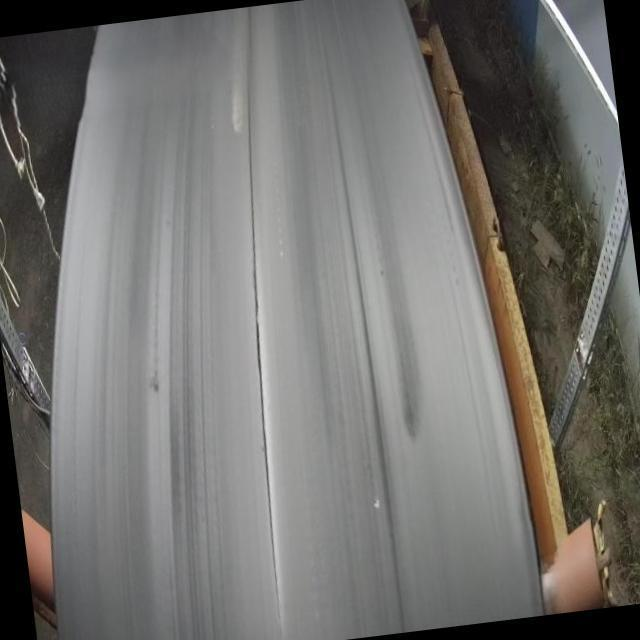Tear: (239, 7, 287, 619)
